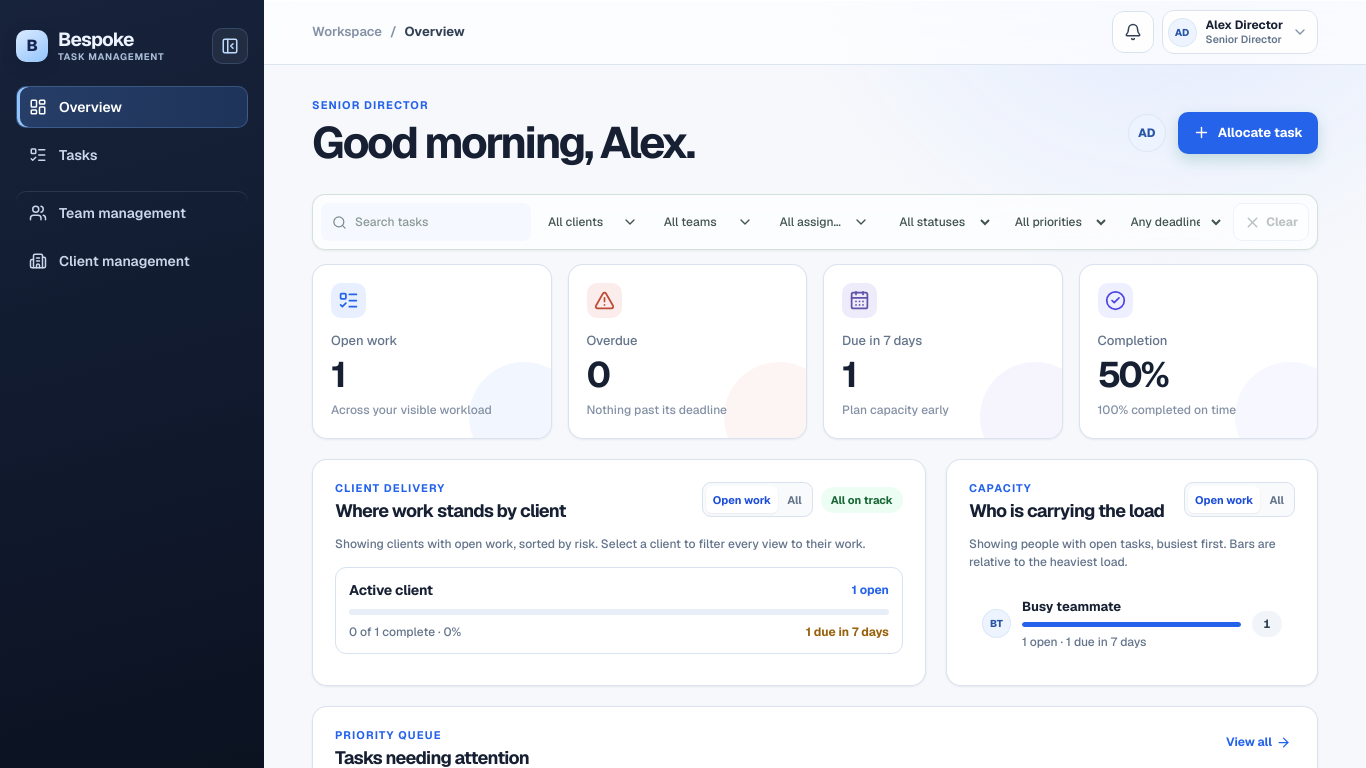
it: overview workload visibility › loads another assignee page with the Supabase cursor
Click the button with aria-label "Filter by assignee" at [824, 222], box [770,203,878,241]
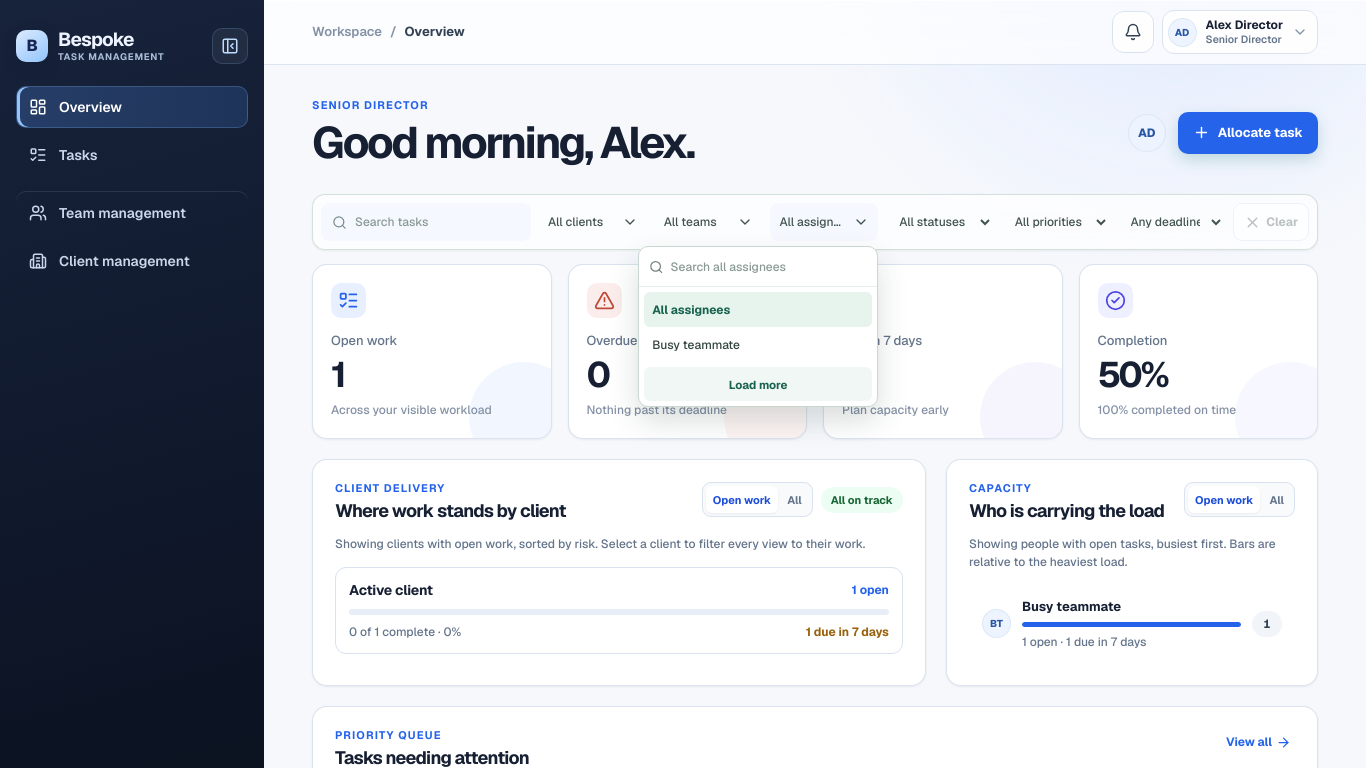
Click the button "Load more" at [758, 384], box [644,367,872,401]
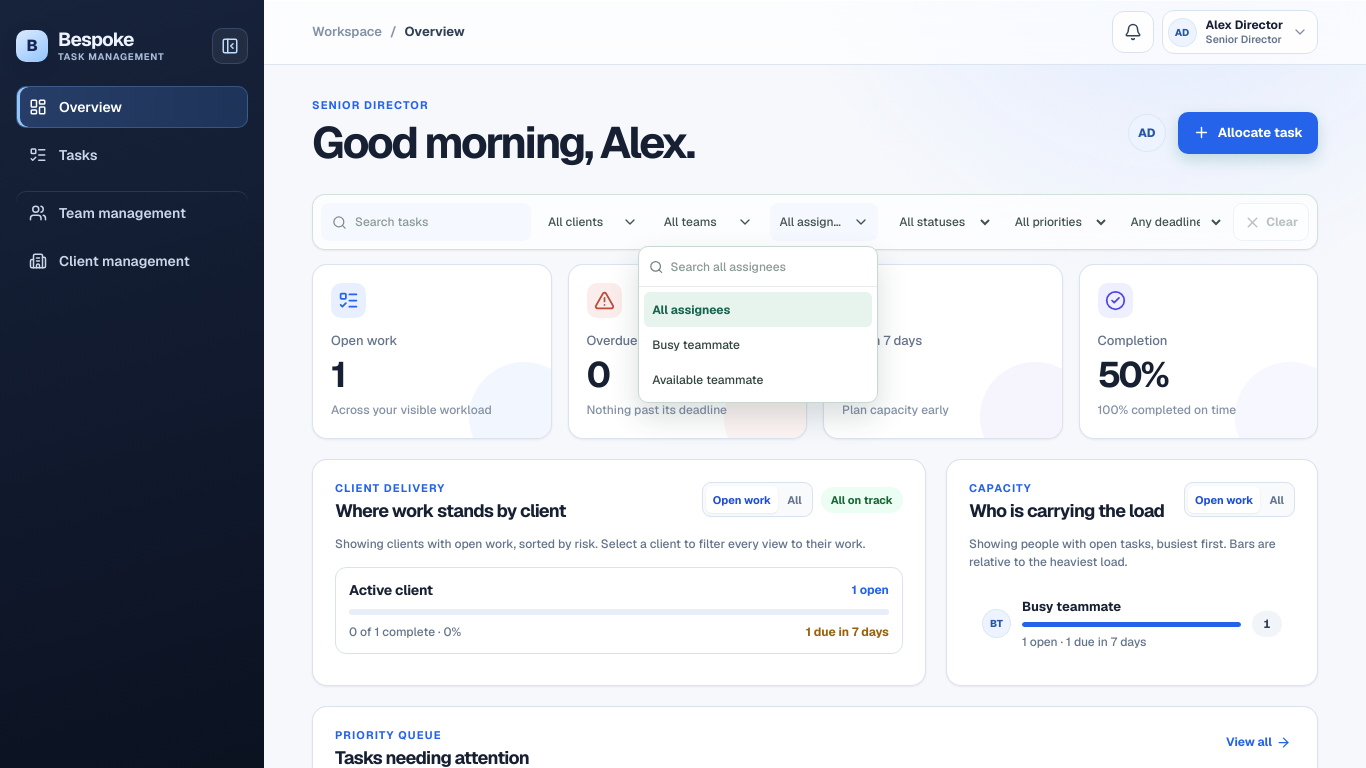
Expected: the option "Available teammate" is shown, [644,362,872,397]
